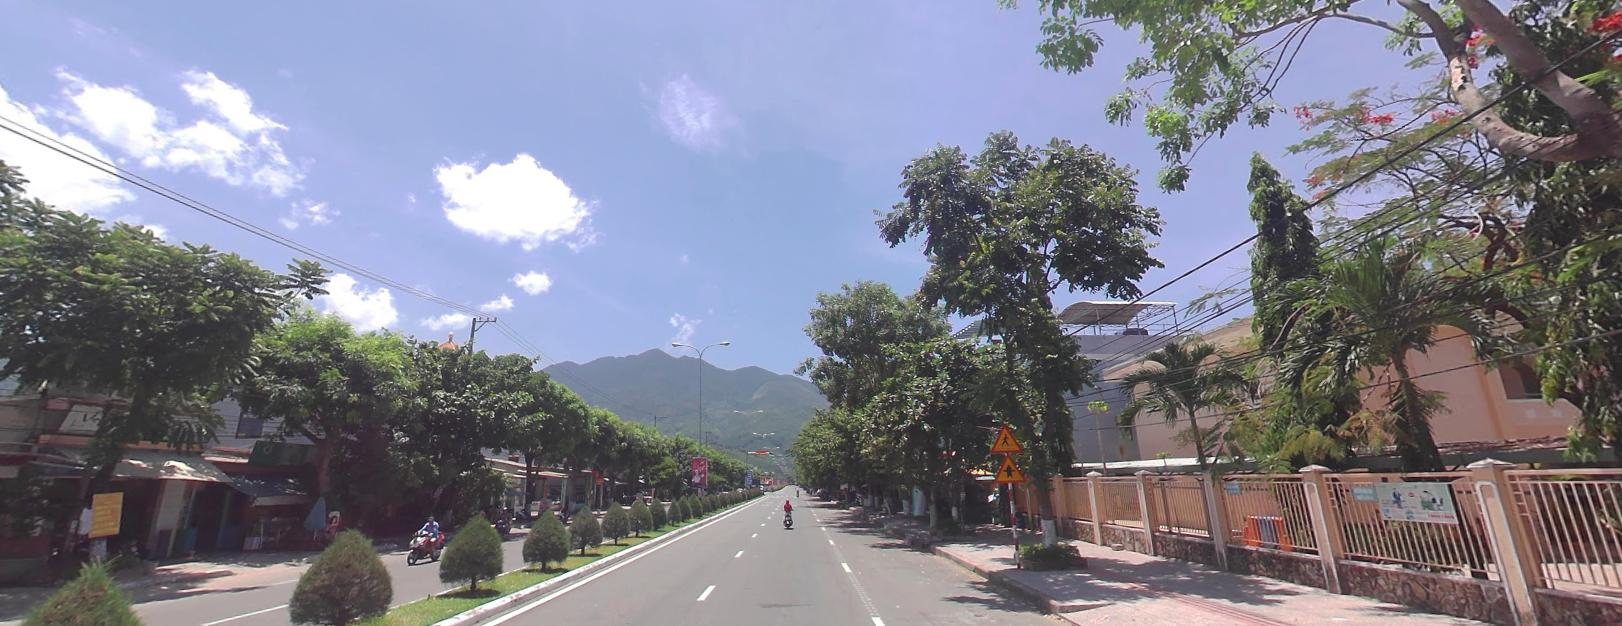Nguy hiem: (987, 421, 1024, 454), (989, 456, 1030, 485)
